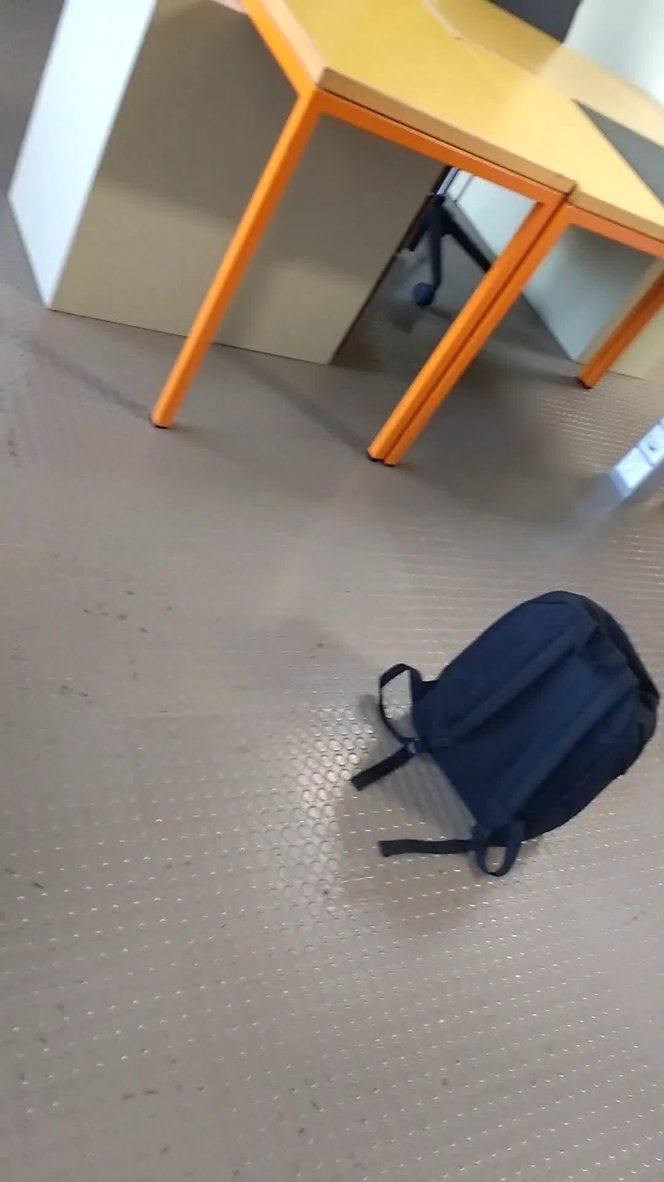bag: (348, 578, 664, 887)
